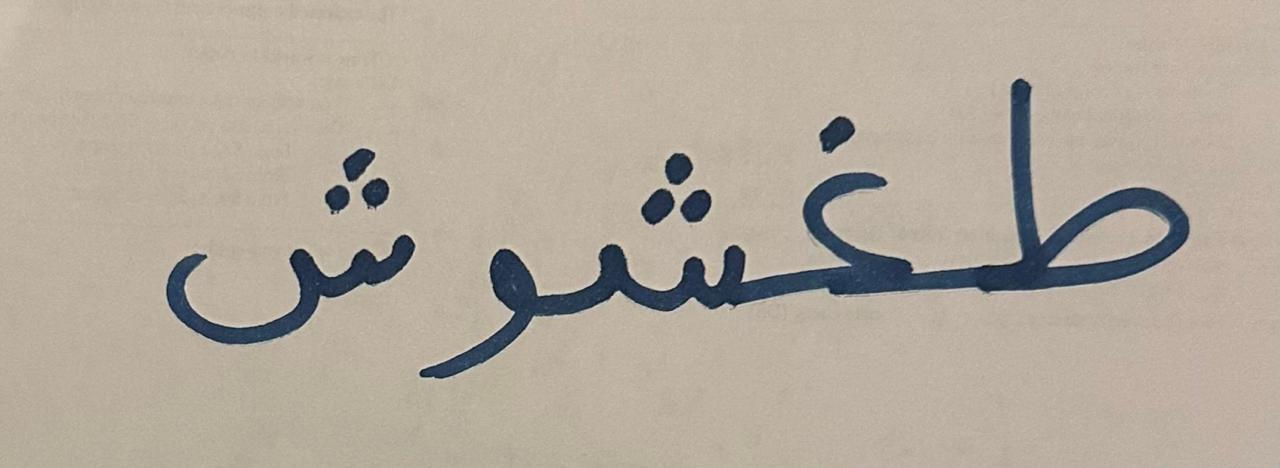ghain: (776, 49, 948, 371)
tah: (143, 95, 420, 360), (569, 59, 771, 373)
teh: (952, 22, 1228, 361)
yeh: (425, 208, 565, 400)
